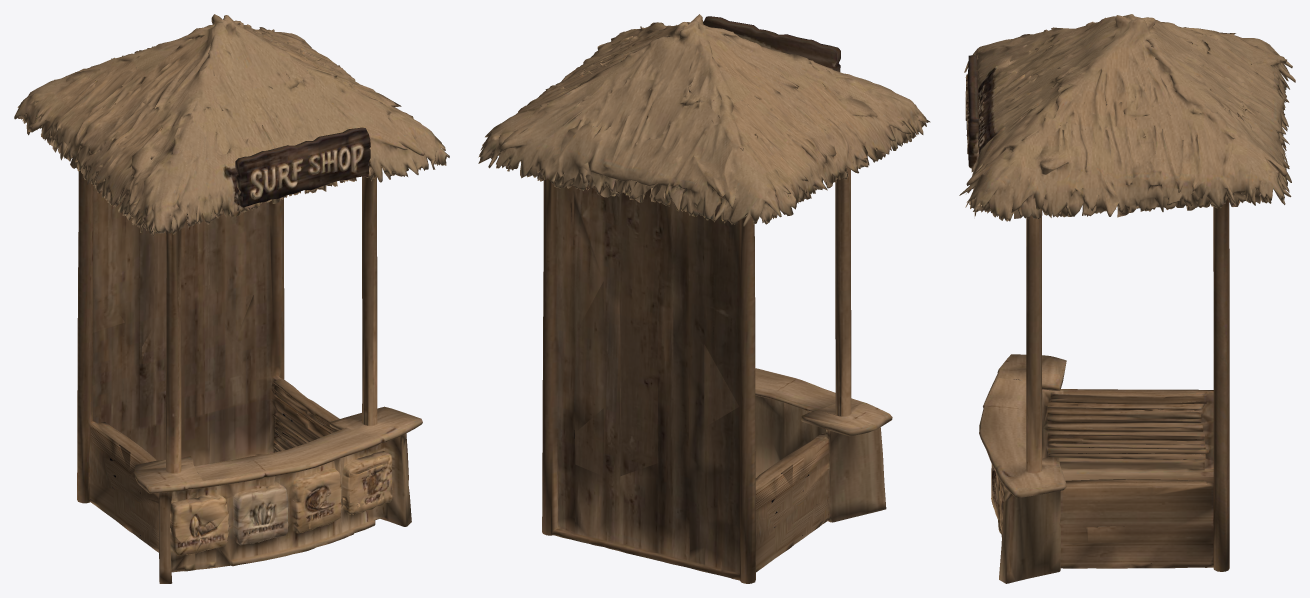
File: tikihut.glb
3 renders of one model, left to right at view 1: azimuth 30°, elevation 25°; view 2: azimuth 150°, elevation 25°; view 3: azimuth 270°, elevation 25°, orthographic. The views are drawn at different scales.
Parts seen in each view (by area): view 1: LOW; view 2: LOW; view 3: LOW.
Boxes of the visible parts, x1,y1,x2,y2 form: LOW: (14, 14, 449, 583); LOW: (478, 14, 930, 583); LOW: (959, 14, 1295, 583).
Bounding box in the file's own units: 1.25 × 1.9 × 1.15.
1 material, 1 textured.
